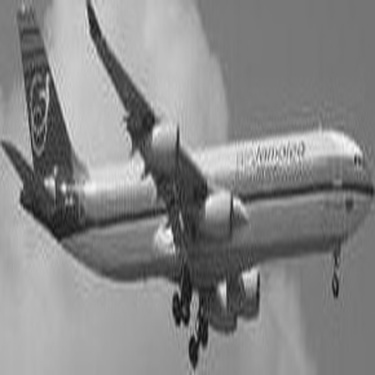airplane: (3, 4, 371, 369)
